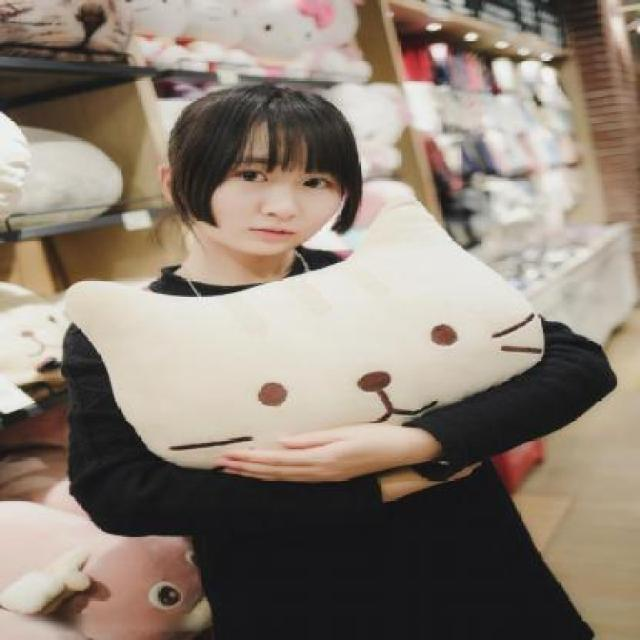Person: (69, 83, 577, 639)
